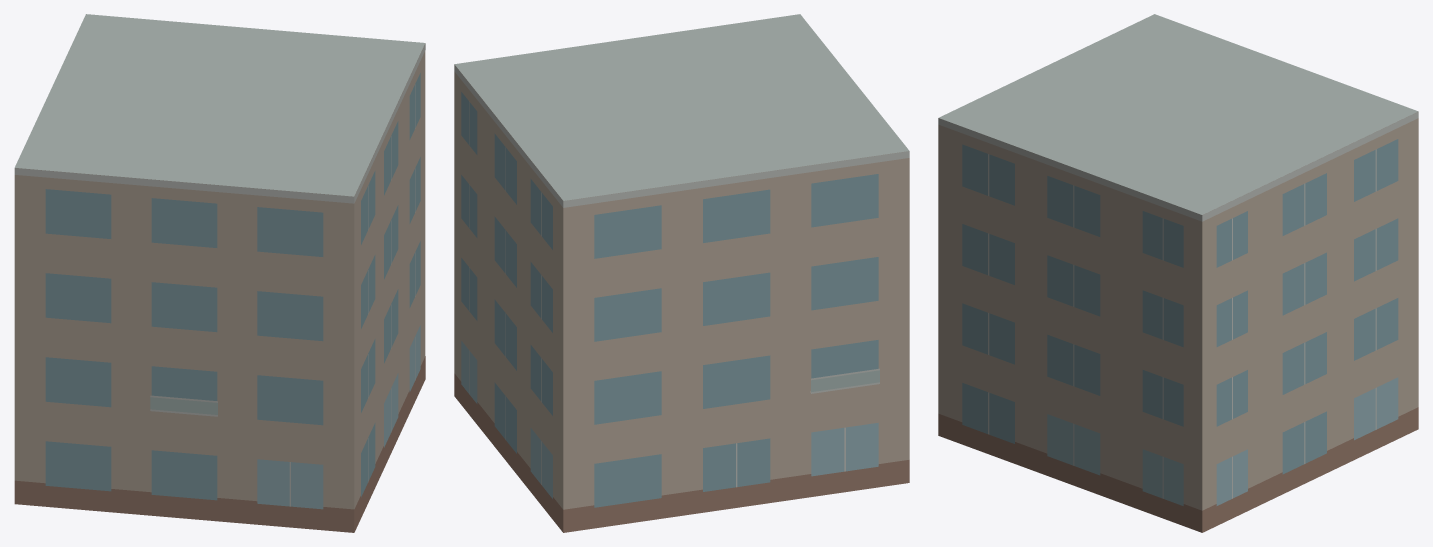
The model's file is survey-upis-32995955.glb.
3 views of the same model, side by side, from view 1: azimuth 30°, elevation 25°; view 2: azimuth 150°, elevation 25°; view 3: azimuth 270°, elevation 25° (orthographic). The views are drawn at different scales.
Parts seen in each view (by area): view 1: survey-upis-32995955.tmp; view 2: survey-upis-32995955.tmp; view 3: survey-upis-32995955.tmp.
Boxes of the visible parts, x1,y1,x2,y2 form: survey-upis-32995955.tmp: (14,14,425,532); survey-upis-32995955.tmp: (454,14,909,532); survey-upis-32995955.tmp: (938,14,1418,532).
Bounding box in the file's own units: 15.89 × 11.7 × 16.04.
